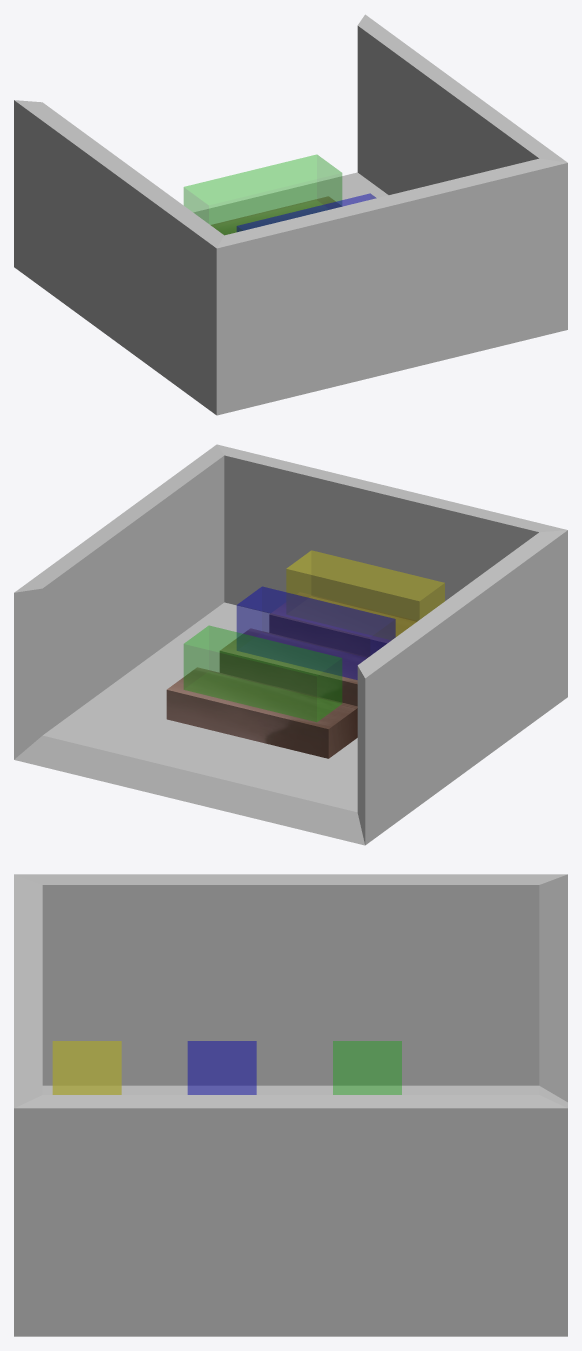
Rendered from sorting_test.obj.
3 views of the same model, one above another, from view 1: azimuth 30°, elevation 25°; view 2: azimuth 150°, elevation 25°; view 3: azimuth 270°, elevation 25° (orthographic). The views are drawn at different scales.
Visible parts, largest first — view 1: Cube.001; view 2: Cube.001; view 3: Cube.001.
Boxes of the visible parts, x1,y1,x2,y2 form: Cube.001: [14, 14, 567, 415]; Cube.001: [14, 444, 567, 845]; Cube.001: [14, 874, 567, 1336].
Size of the model in its own units: 35.2 by 16.57 by 35.2.
